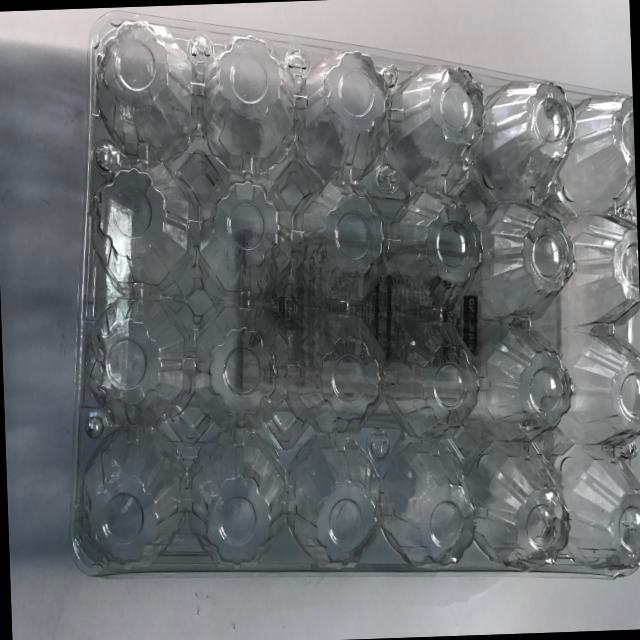plastic: (29, 0, 640, 621)
